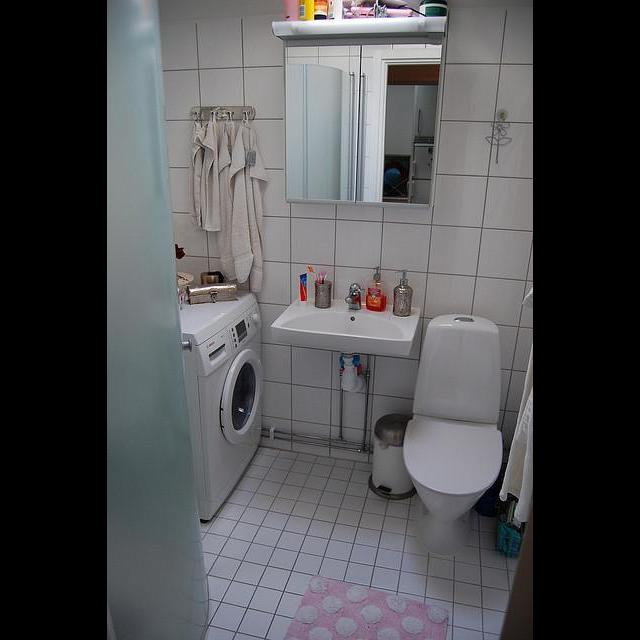Washing-Machine: (184, 288, 266, 520)
